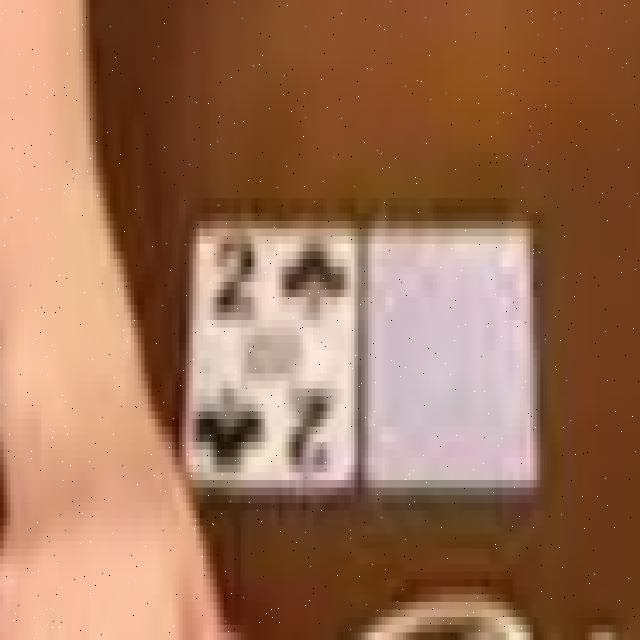Card-2: (187, 223, 355, 482)
